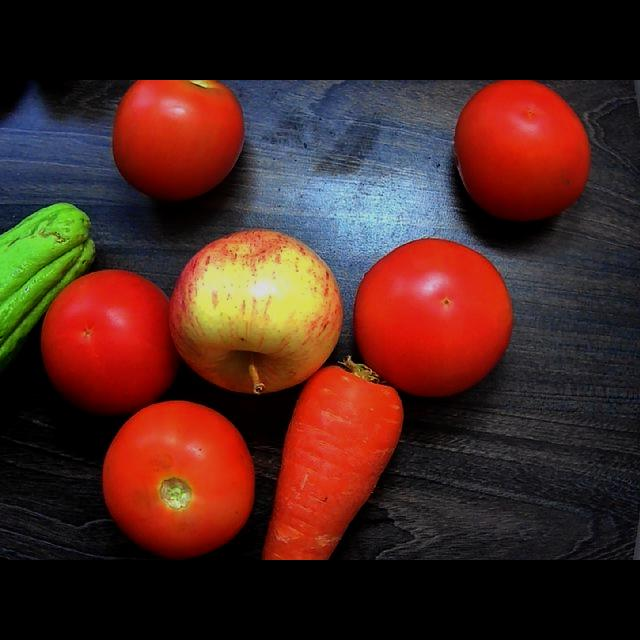chayote: (1, 203, 96, 382)
manzana: (170, 230, 342, 394)
tomate: (354, 240, 512, 397), (104, 401, 255, 559), (41, 270, 180, 415), (455, 80, 591, 221), (113, 80, 245, 200)
zanahoria: (263, 357, 405, 559)
